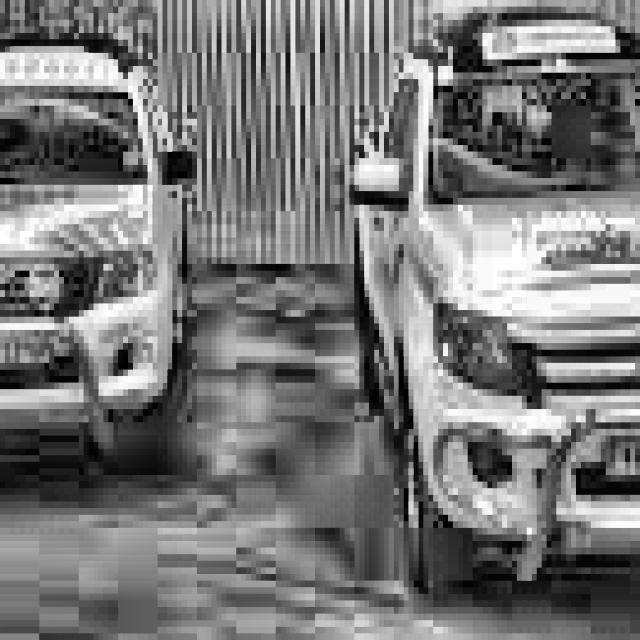light_vehicle: (339, 0, 640, 640), (0, 0, 231, 521)
